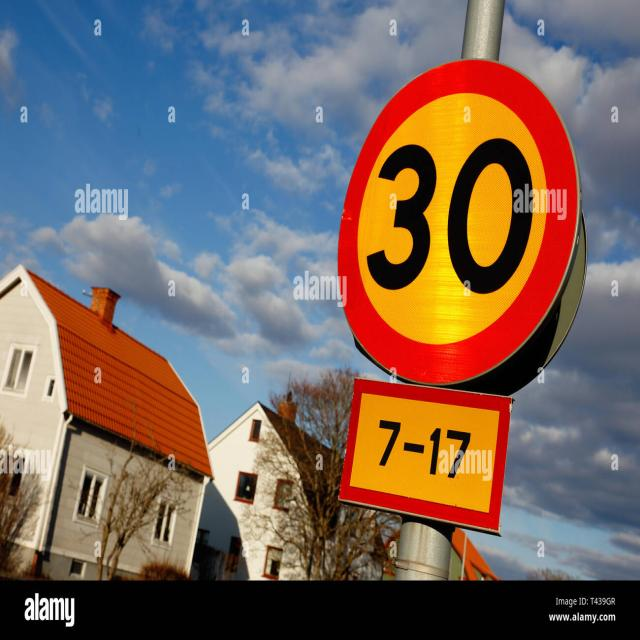speed_30: (337, 60, 580, 385)
